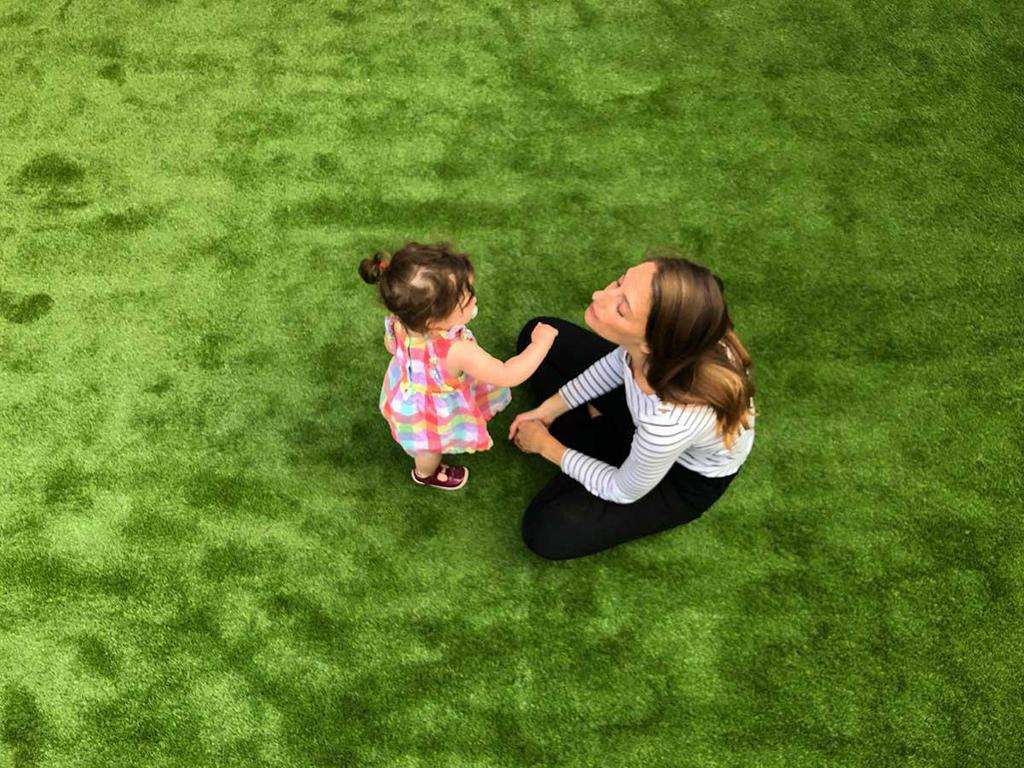child: (332, 235, 554, 501)
